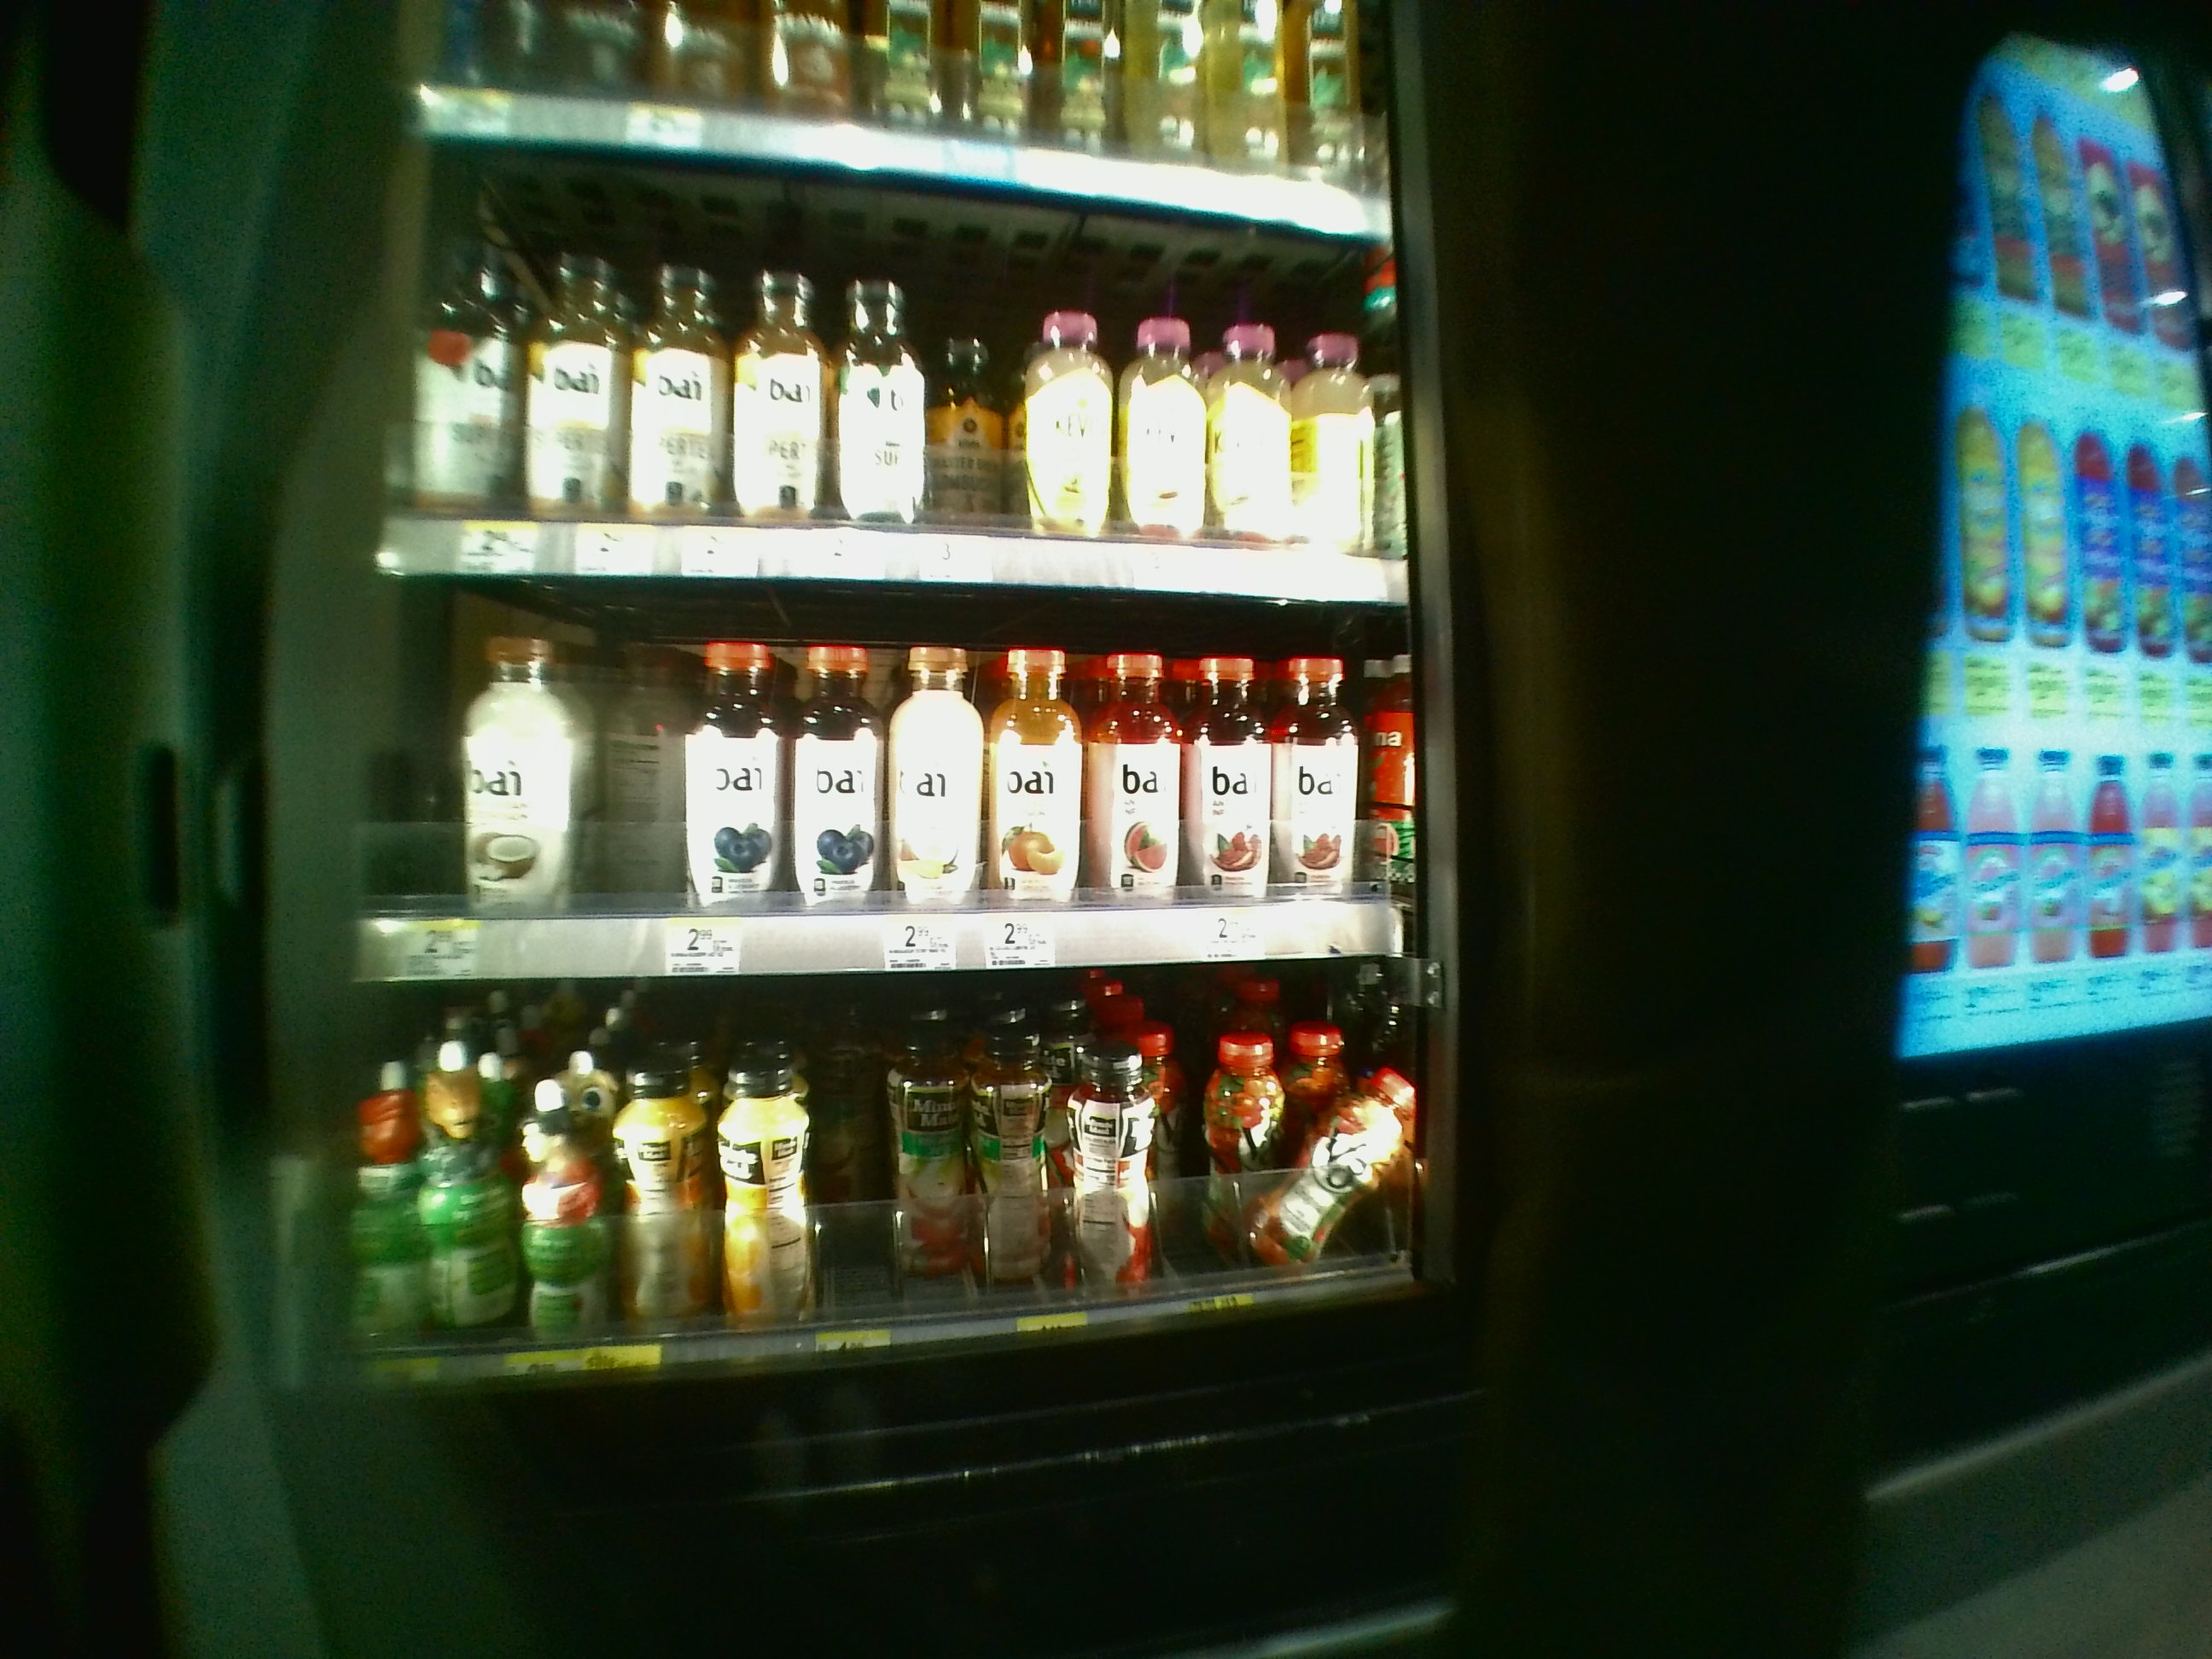shelf: (381, 136, 1399, 579), (348, 990, 1433, 1384), (355, 582, 1418, 974)
